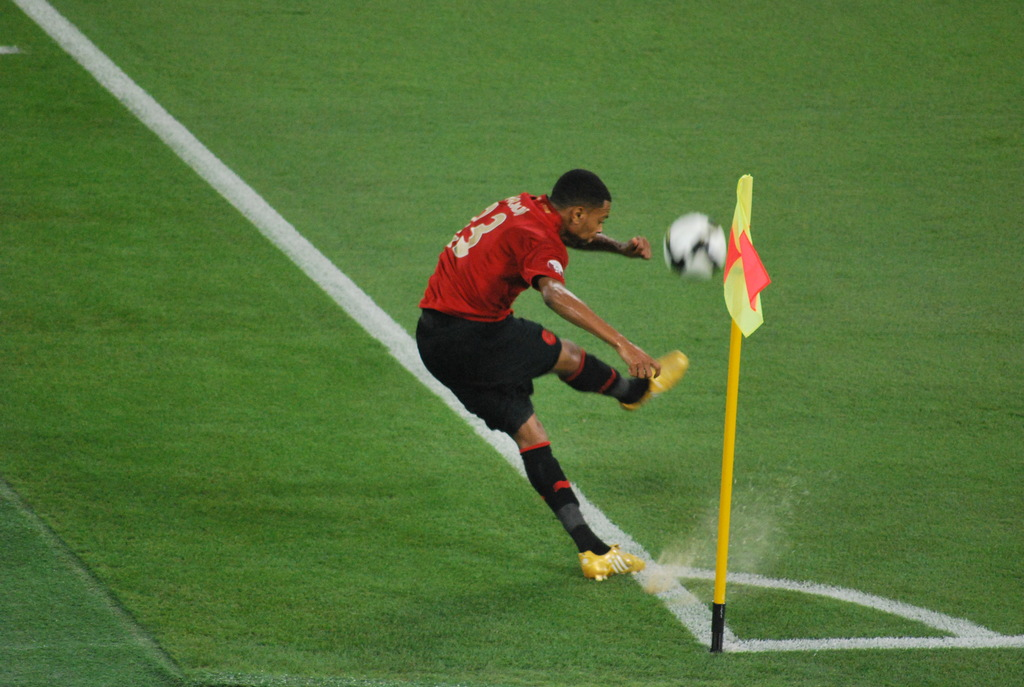Person: (416, 168, 688, 580)
